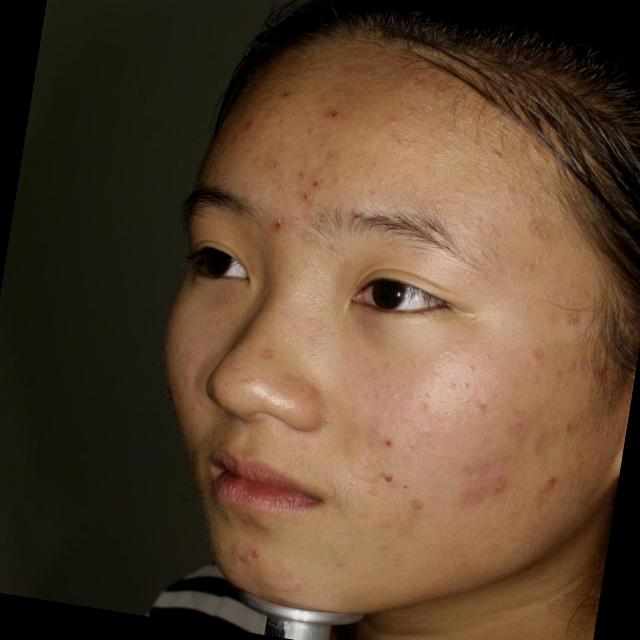acne: (282, 166, 329, 216), (537, 466, 577, 508), (474, 471, 516, 506), (367, 461, 407, 496), (314, 96, 354, 125), (232, 114, 265, 144), (370, 428, 404, 456), (548, 414, 578, 444), (558, 302, 586, 330), (268, 202, 288, 237), (237, 543, 264, 565)
